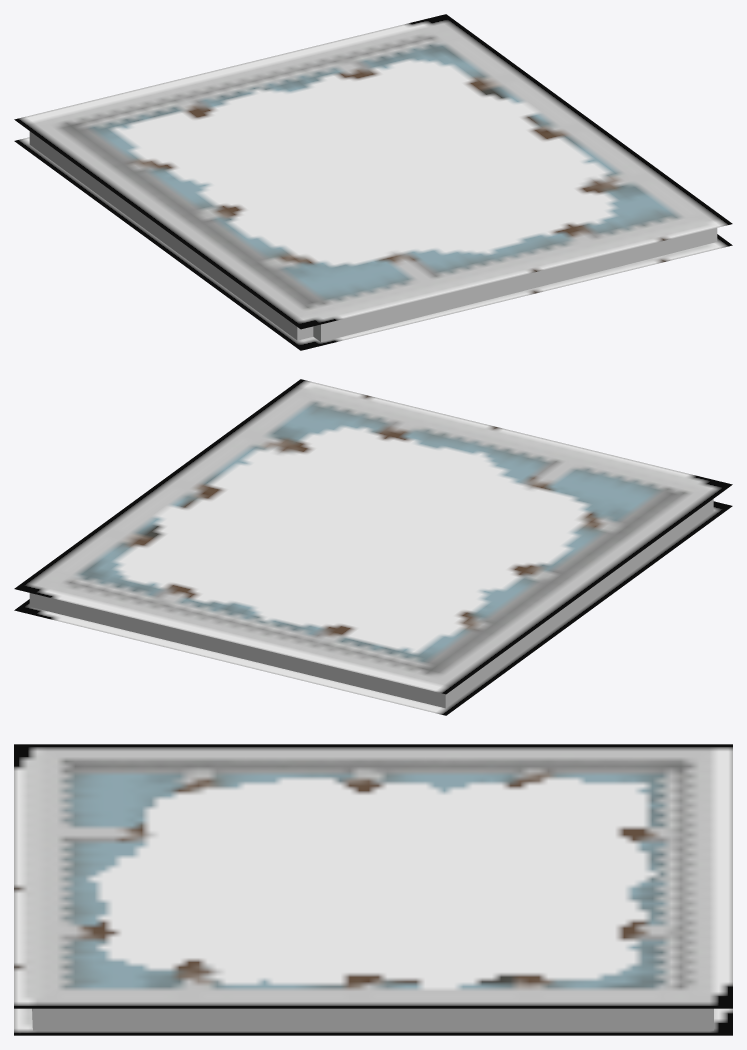
Rendered from pz_native_fixtures_windows_white_81_frame.obj.
3 views of the same model, one above another, from view 1: azimuth 30°, elevation 25°; view 2: azimuth 150°, elevation 25°; view 3: azimuth 270°, elevation 25° (orthographic). The views are drawn at different scales.
Visible parts, largest first — view 1: pz_native_fixtures_windows_white_81_frame; view 2: pz_native_fixtures_windows_white_81_frame; view 3: pz_native_fixtures_windows_white_81_frame.
Boxes of the visible parts, <box> form: pz_native_fixtures_windows_white_81_frame: <box>14,14,732,350</box>; pz_native_fixtures_windows_white_81_frame: <box>14,379,732,715</box>; pz_native_fixtures_windows_white_81_frame: <box>14,744,732,1035</box>.
Size of the model in its own units: 0.8438 by 0.04 by 0.9696.
Materials: 1 (1 with a texture image).
